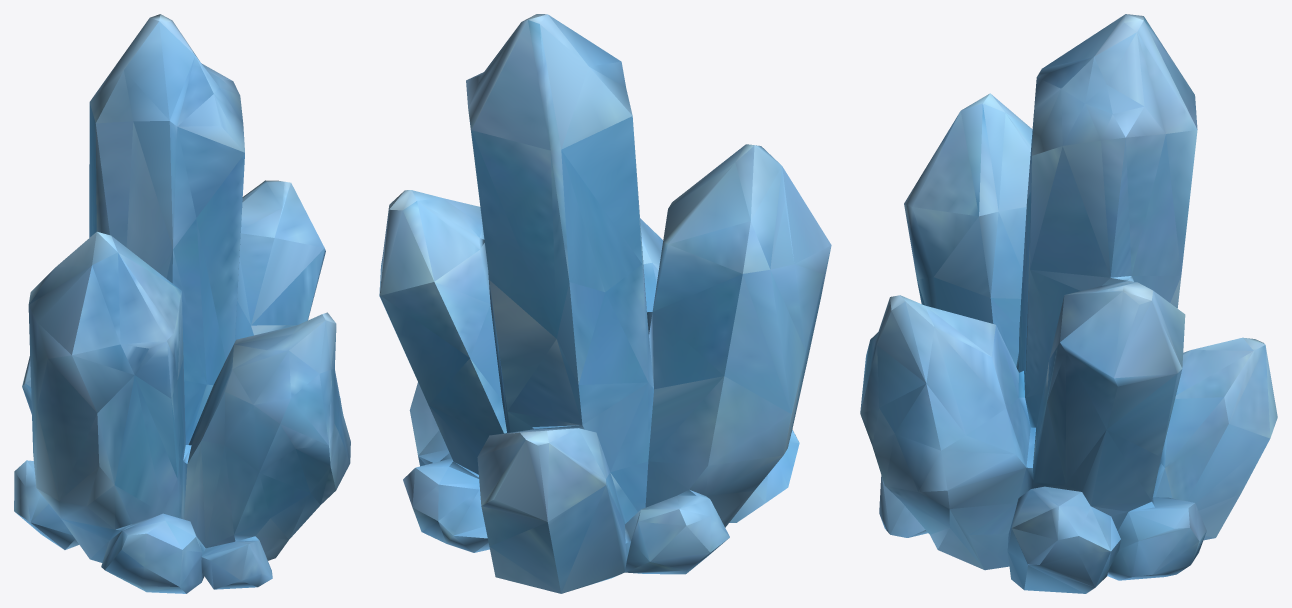
File: racimo_hielo_p_700.glb
3 views of the same model, side by side, from view 1: azimuth 30°, elevation 25°; view 2: azimuth 150°, elevation 25°; view 3: azimuth 270°, elevation 25° (orthographic). The views are drawn at different scales.
Visible parts, largest first — view 1: racimo_hielo_p_malla; view 2: racimo_hielo_p_malla; view 3: racimo_hielo_p_malla.
Part boxes in pixels (bbox=[...]): racimo_hielo_p_malla: bbox=[14, 14, 350, 593]; racimo_hielo_p_malla: bbox=[379, 14, 831, 593]; racimo_hielo_p_malla: bbox=[860, 14, 1277, 593].
Size of the model in its own units: 0.1219 by 0.1671 by 0.1213.
Materials: 1 (1 with a texture image).
